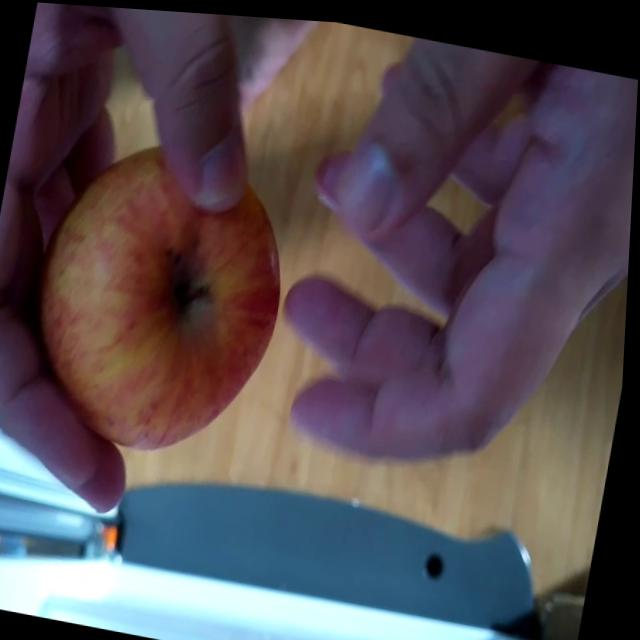apple: (15, 137, 302, 470)
